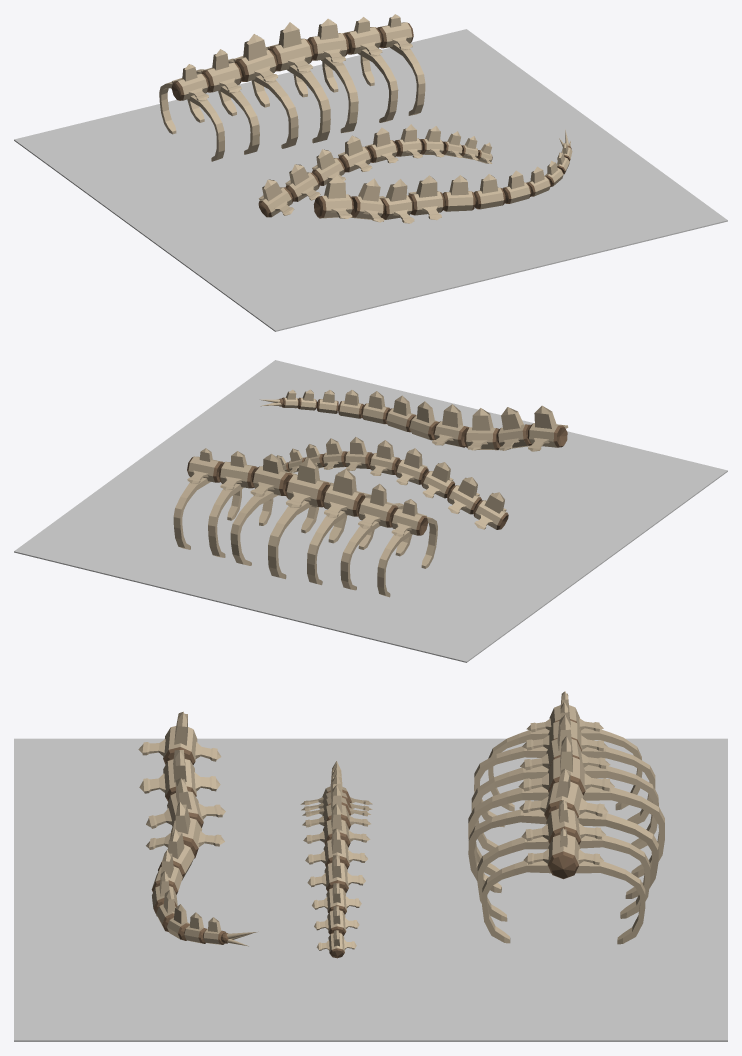
File: Skelett Lava.fbx
3 renders of one model, top to bottom at view 1: azimuth 30°, elevation 25°; view 2: azimuth 150°, elevation 25°; view 3: azimuth 270°, elevation 25°, orthographic. The views are drawn at different scales.
Parts seen in each view (by area): view 1: Cube, Cylinder.005, Cylinder.002, Cylinder.009; view 2: Cube, Cylinder.005, Cylinder.002, Cylinder.009; view 3: Cube, Cylinder.005, Cylinder.002, Cylinder.009.
Part boxes in pixels (<box>): Cube: <box>14,29,727,331</box>; Cylinder.005: <box>159,14,425,161</box>; Cylinder.002: <box>313,129,572,223</box>; Cylinder.009: <box>258,124,492,217</box>; Cube: <box>14,360,727,662</box>; Cylinder.005: <box>173,448,437,597</box>; Cylinder.002: <box>260,389,568,451</box>; Cylinder.009: <box>276,437,508,529</box>; Cube: <box>14,738,727,1041</box>; Cylinder.005: <box>468,691,664,944</box>; Cylinder.002: <box>138,711,258,946</box>; Cylinder.009: <box>300,761,372,958</box>.
Size of the model in its own units: 4000 by 922 by 4000.
